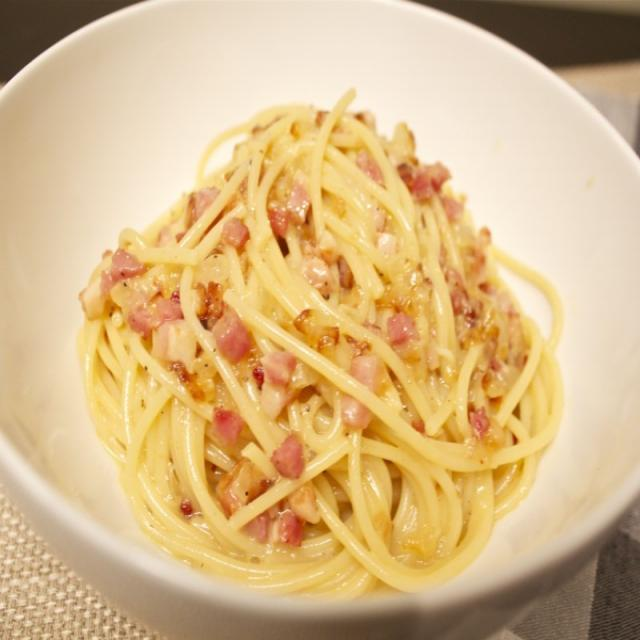Pasta with carbonara sauce: (43, 50, 605, 613)
